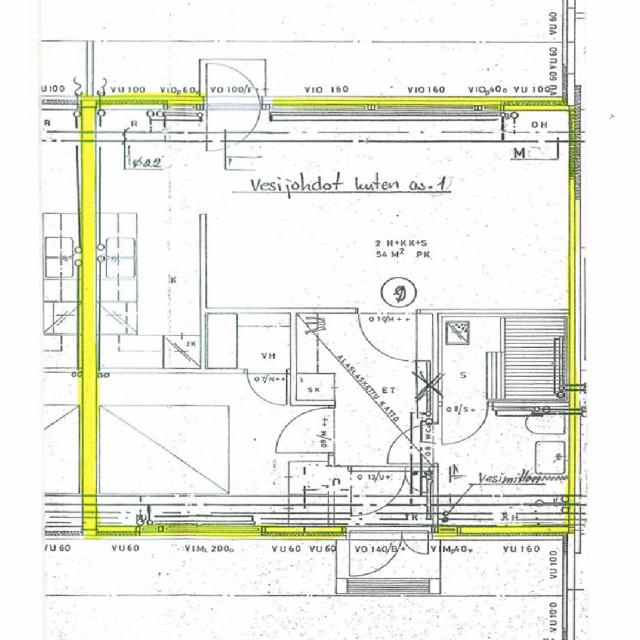door: (358, 309, 416, 364), (207, 96, 260, 156), (207, 52, 260, 111), (348, 527, 402, 584), (351, 467, 405, 518), (275, 408, 334, 453), (386, 424, 438, 464), (442, 401, 487, 444), (246, 368, 286, 407), (402, 526, 428, 562), (406, 466, 428, 491)
